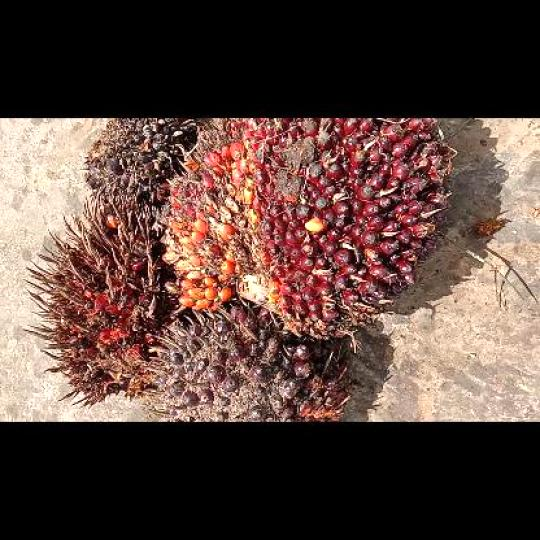kurang masak: (143, 303, 353, 421)
masak: (159, 118, 454, 342)
terlalu masak: (21, 186, 174, 406)
